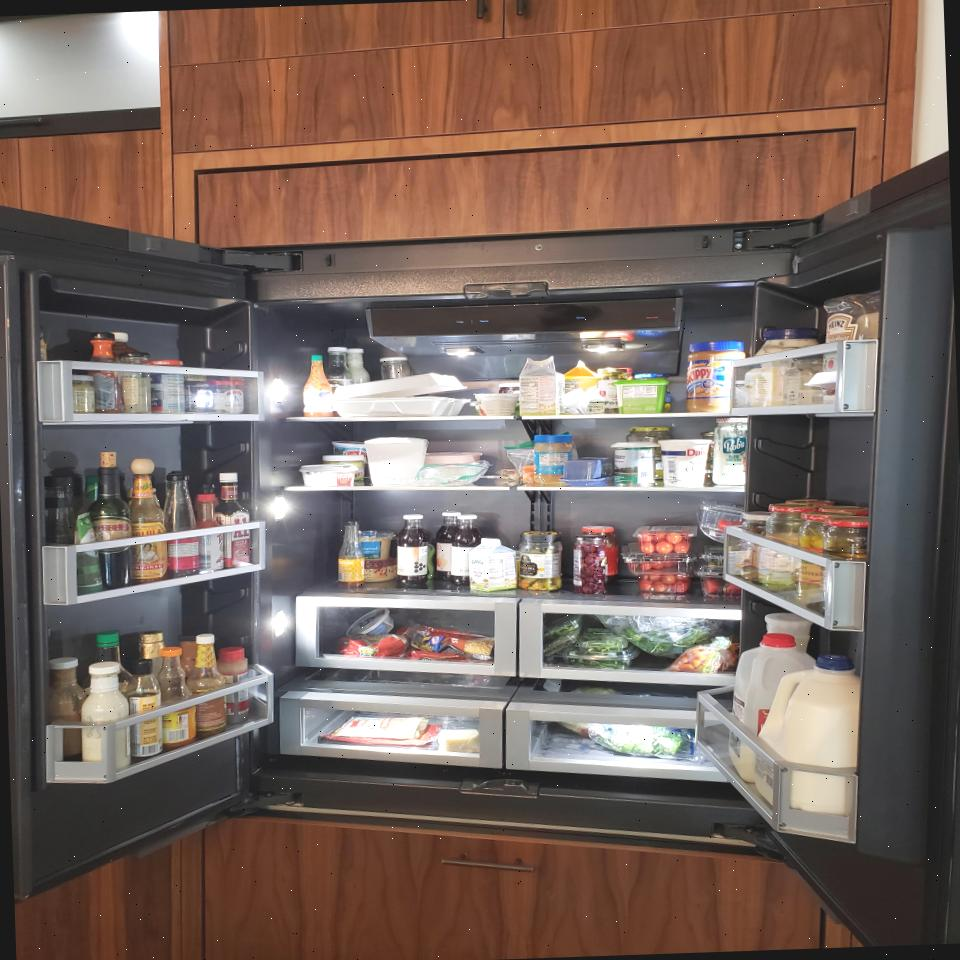Leche: (752, 650, 864, 818), (728, 632, 822, 784)
Queso: (438, 728, 480, 756)
Tomate: (634, 526, 694, 556), (625, 554, 692, 575), (638, 572, 690, 594), (712, 515, 743, 531)
Zanahoria: (668, 643, 738, 676)
mayonnaise: (756, 324, 822, 368)
strawberries: (698, 571, 744, 597)
